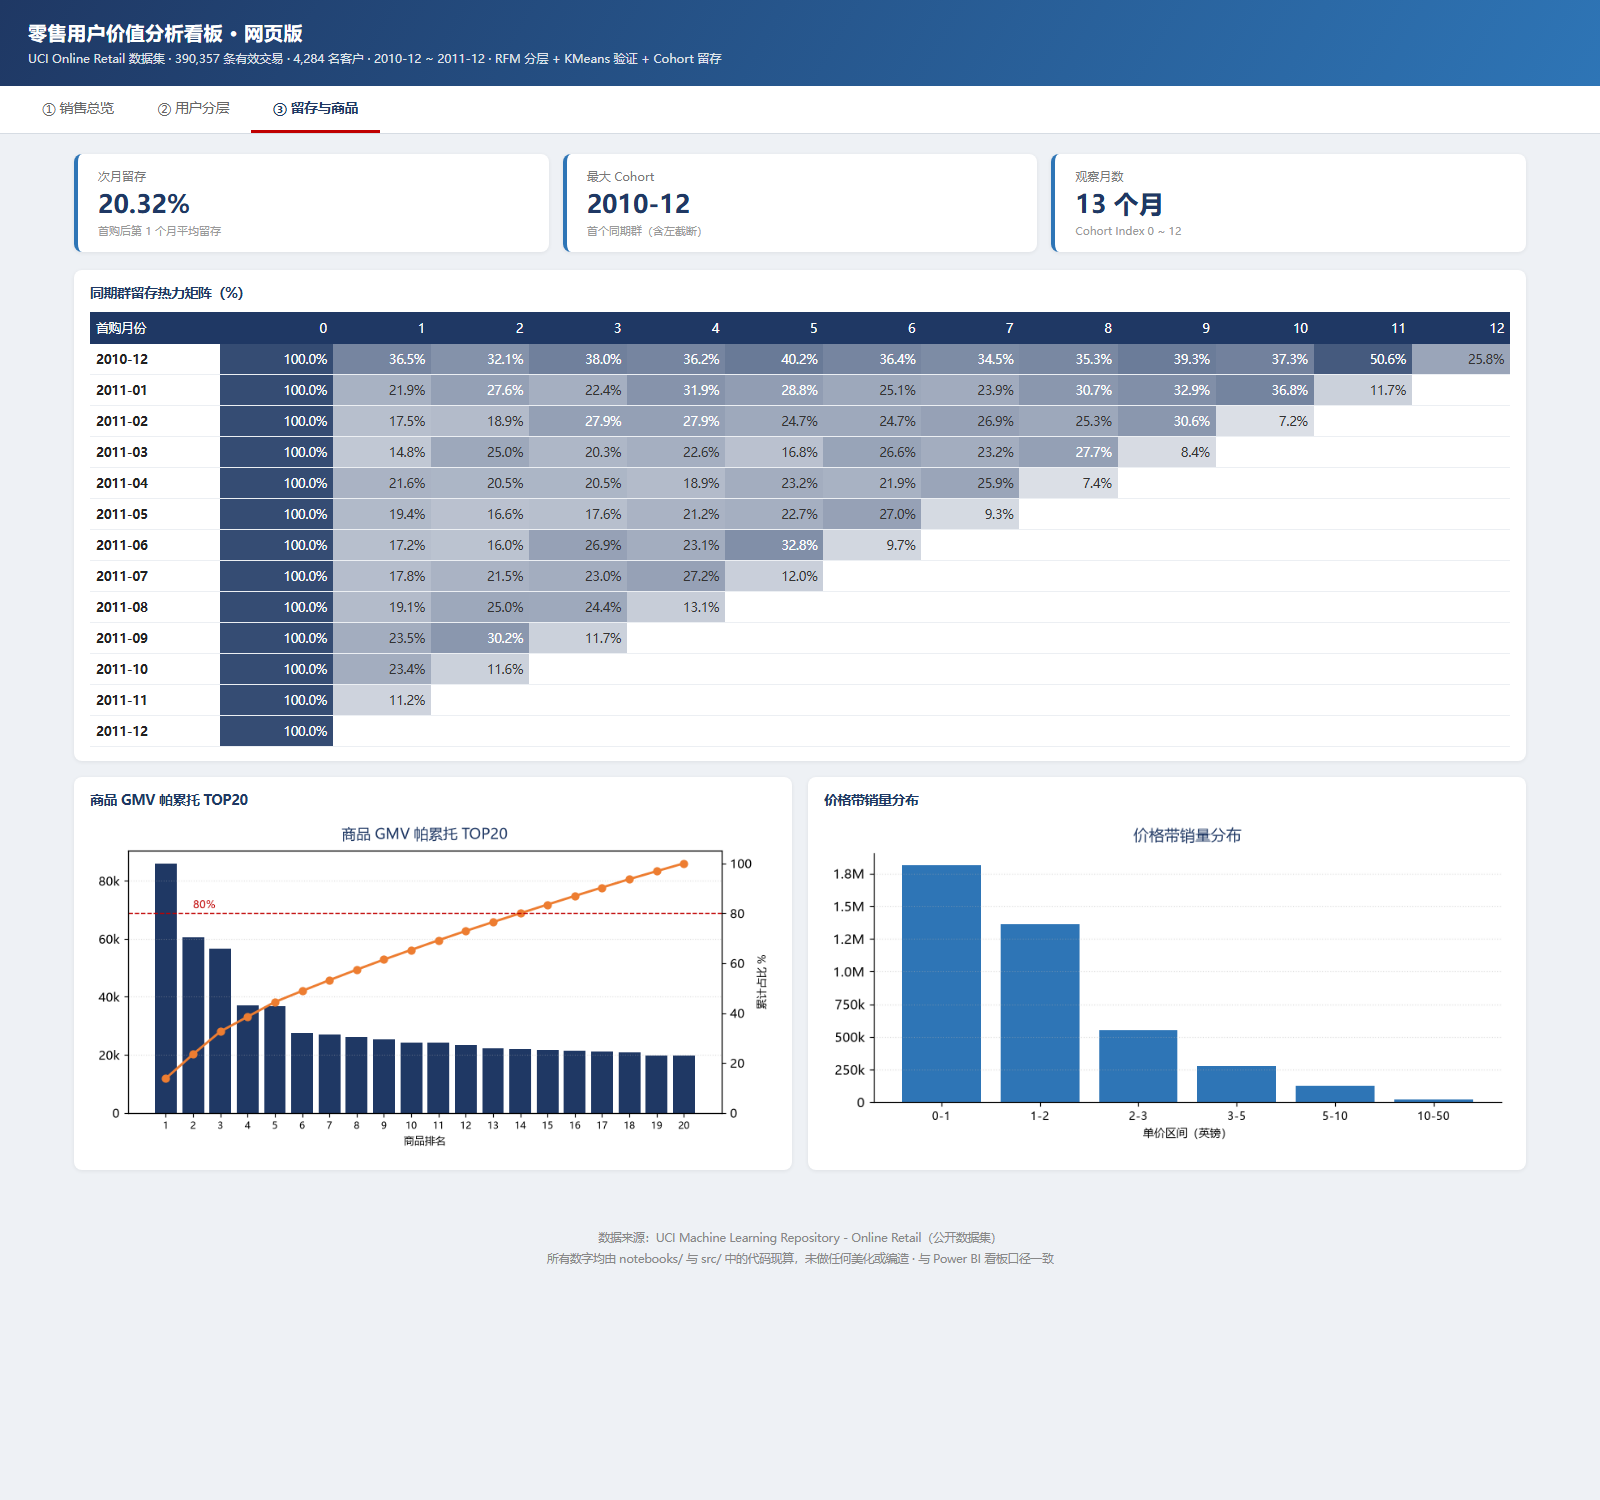

The page's visual inventory and layout, read from the dashboard file:
{"tool":"powerbi","page":{"name":"留存与商品","canvas":[1920,1080],"ordinal":2},"visuals":[{"type":"pivotTable","title":"Cohort留存热力矩阵","fields":{"Columns":["retention.Cohort Index"],"Rows":["retention.CohortMonth"],"Values":["Avg(retention.Retention)"]},"box":[9.1,0,902.2,469.2],"z":0},{"type":"lineClusteredColumnComboChart","fields":{"Category":["retail_clean.Description"],"Y":["日期表.总销售额","select"],"Y2":["日期表.商品累计GMV占比"]},"box":[9.1,485.8,1282.4,445.1],"z":1000},{"type":"clusteredColumnChart","title":"商品价格带分布（英镑）","fields":{"Category":["retail_clean.UnitPrice (箱)"],"Y":["Sum(retail_clean.Quantity)"]},"box":[927.8,0,968.6,469.2],"z":2000}]}

Visuals, with their boxes on the page's 1920x1080 design canvas (x1, y1, x2, y2). These are canvas units, not pixel positions in the 1600x1500 screenshot, which may show the page scaled, cropped or inside an application window:
"Cohort留存热力矩阵" pivotTable: detection(9, 0, 911, 469)
lineClusteredColumnComboChart - retail_clean.Description x 日期表.总销售额: detection(9, 486, 1292, 931)
"商品价格带分布（英镑）" clusteredColumnChart: detection(928, 0, 1896, 469)
